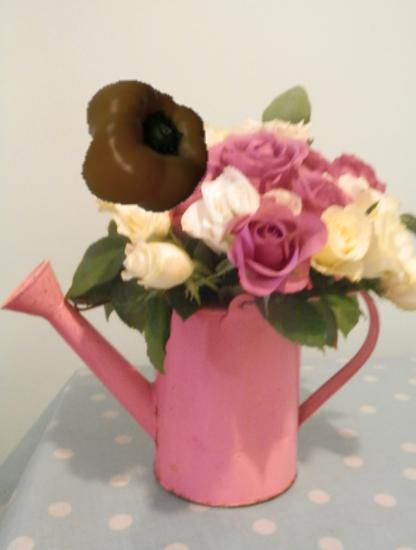Pepper: (76, 78, 213, 215)
